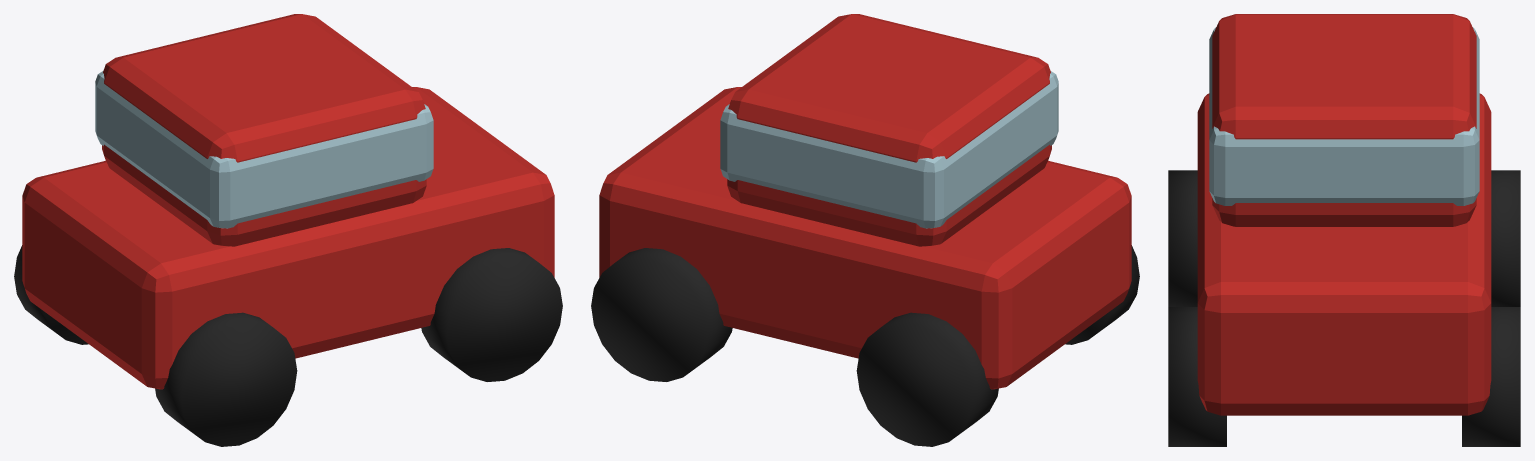
File: car_mini.glb
3 renders of one model, left to right at view 1: azimuth 30°, elevation 25°; view 2: azimuth 150°, elevation 25°; view 3: azimuth 270°, elevation 25°, orthographic. The views are drawn at different scales.
Parts seen in each view (by area): view 1: car_mini; view 2: car_mini; view 3: car_mini.
Part boxes in pixels (left/top/right/bottom): car_mini: left=14, top=14, right=562, bottom=446; car_mini: left=591, top=14, right=1139, bottom=446; car_mini: left=1168, top=14, right=1520, bottom=446.
Size of the model in its own units: 0.17 by 0.1125 by 0.12.
